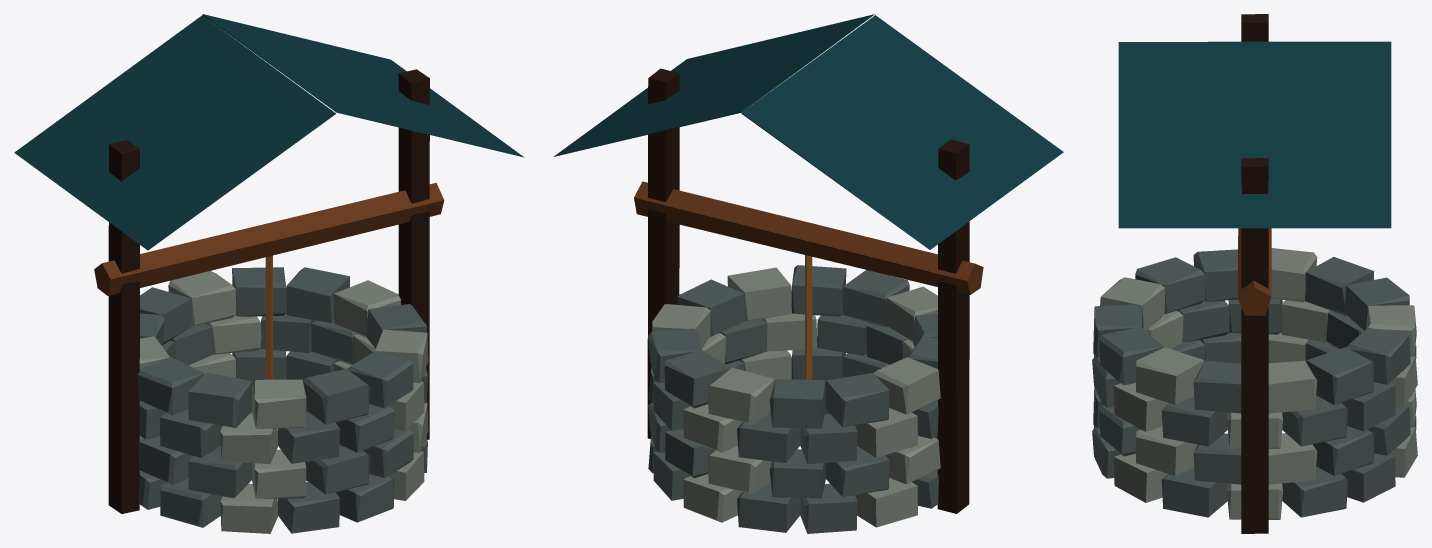
Rendered from Poco_de_pedra_LOD1.fbx.
3 views of the same model, side by side, from view 1: azimuth 30°, elevation 25°; view 2: azimuth 150°, elevation 25°; view 3: azimuth 270°, elevation 25° (orthographic).
Visible parts, largest first — view 1: Poco_de_pedra_LOD1; view 2: Poco_de_pedra_LOD1; view 3: Poco_de_pedra_LOD1.
Part boxes in pixels (x1,y1,x2,y2): Poco_de_pedra_LOD1: [14, 14, 524, 533]; Poco_de_pedra_LOD1: [553, 14, 1063, 533]; Poco_de_pedra_LOD1: [1092, 14, 1417, 533].
Size of the model in its own units: 260 by 270 by 191.
1 material, 1 textured.
